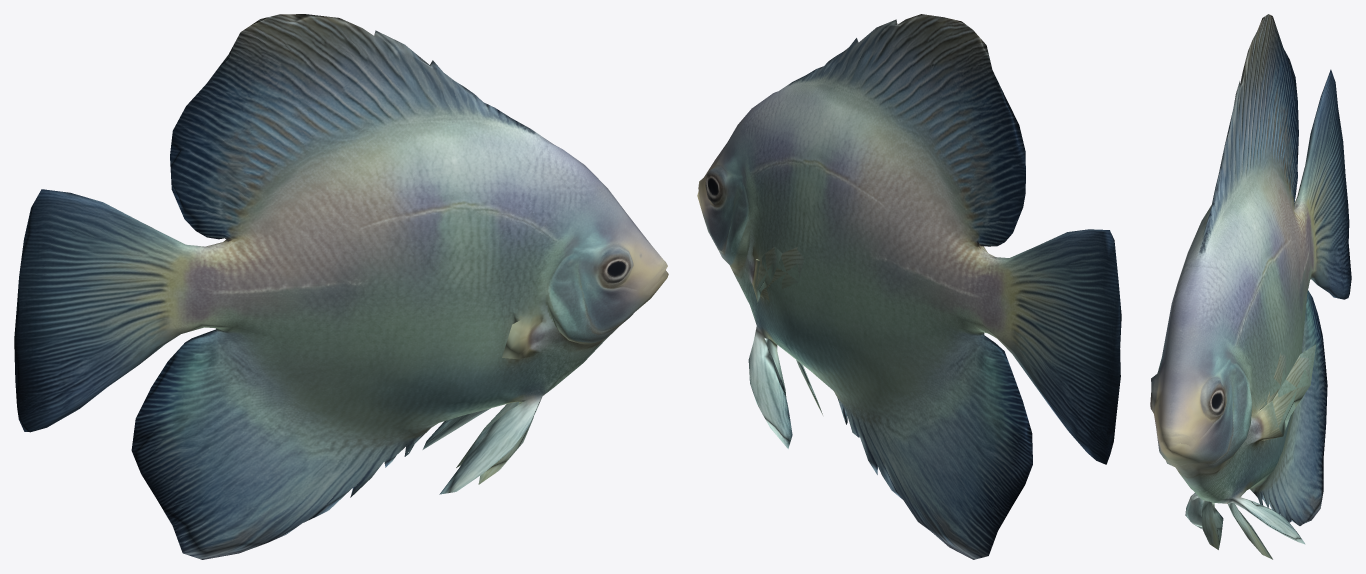
File: tropicalfish_b6_single_1500.glb
3 renders of one model, left to right at view 1: azimuth 30°, elevation 25°; view 2: azimuth 150°, elevation 25°; view 3: azimuth 270°, elevation 25°, orthographic. The views are drawn at different scales.
Bounding box in the file's own units: 0.883 × 0.8416 × 0.3006.
Materials: 1 (1 with a texture image).
